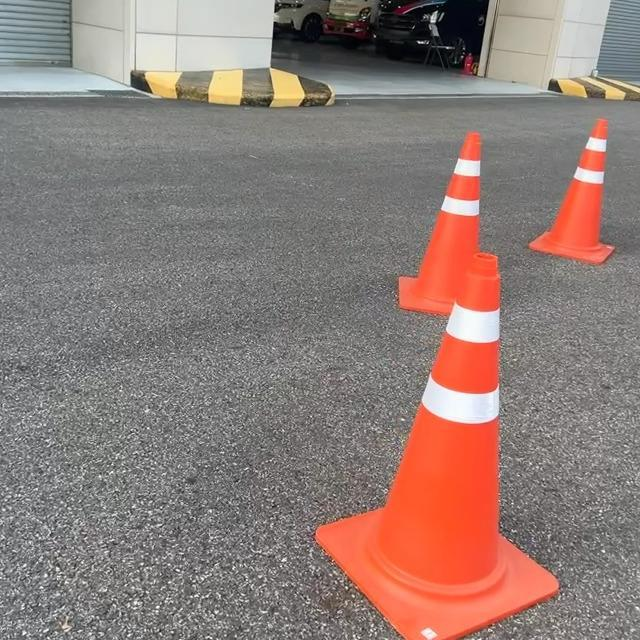fallen_object: (277, 239, 573, 640), (313, 60, 502, 354), (507, 85, 640, 312)
